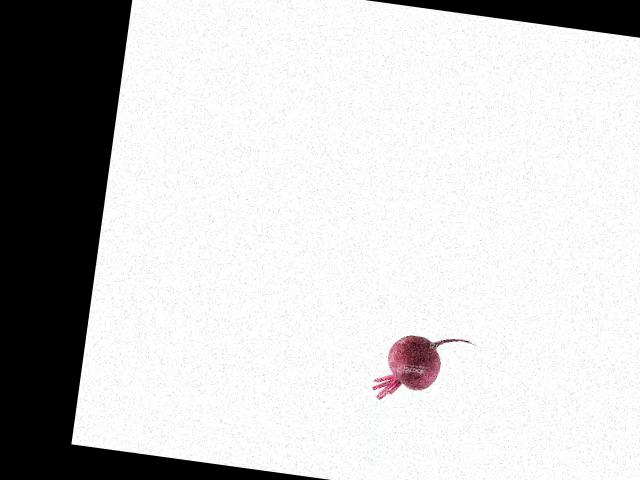beet: (371, 328, 477, 411)
